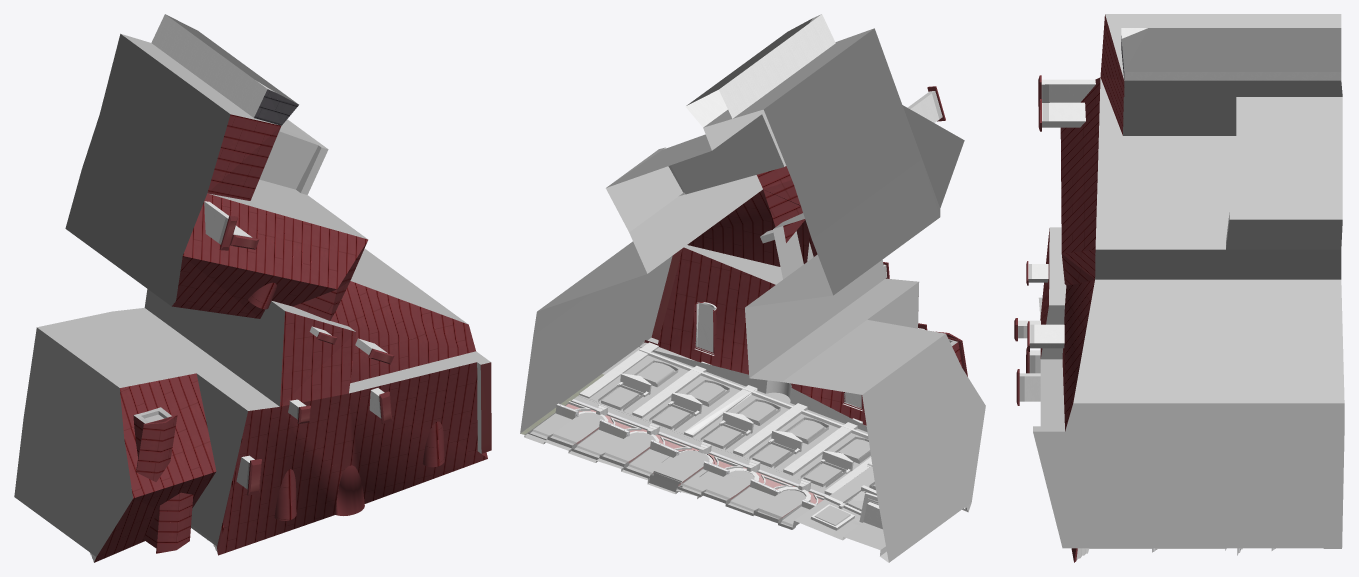
The model's file is Kuninga_4.obj.
3 views of the same model, side by side, from view 1: azimuth 30°, elevation 25°; view 2: azimuth 150°, elevation 25°; view 3: azimuth 270°, elevation 25° (orthographic). The views are drawn at different scales.
Parts seen in each view (by area): view 1: Kuninga_4; view 2: Kuninga_4; view 3: Kuninga_4.
Part boxes in pixels (<box>): Kuninga_4: <box>14,14,491,562</box>; Kuninga_4: <box>520,14,985,562</box>; Kuninga_4: <box>1014,14,1344,562</box>.
Bounding box in the file's own units: 24.14 × 28.66 × 17.95.
